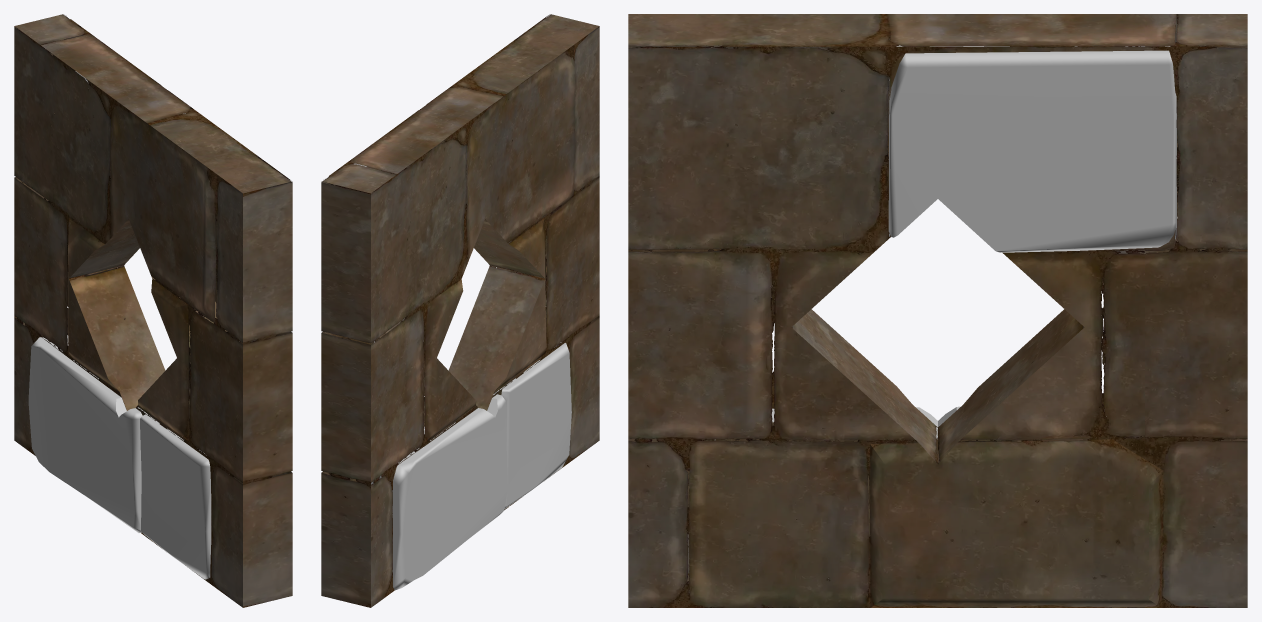
3 views of the same model, side by side, from view 1: azimuth 30°, elevation 25°; view 2: azimuth 150°, elevation 25°; view 3: azimuth 270°, elevation 25° (orthographic). The views are drawn at different scales.
Visible parts, largest first — view 1: SM_Vault_4m_Wall_Hole_01_LOD0; view 2: SM_Vault_4m_Wall_Hole_01_LOD0; view 3: SM_Vault_4m_Wall_Hole_01_LOD0.
Boxes of the visible parts, <box> form: SM_Vault_4m_Wall_Hole_01_LOD0: <box>14,14,292,607</box>; SM_Vault_4m_Wall_Hole_01_LOD0: <box>321,14,599,607</box>; SM_Vault_4m_Wall_Hole_01_LOD0: <box>628,14,1247,607</box>.
Bounding box in the file's own units: 0.6771 × 4 × 4.
